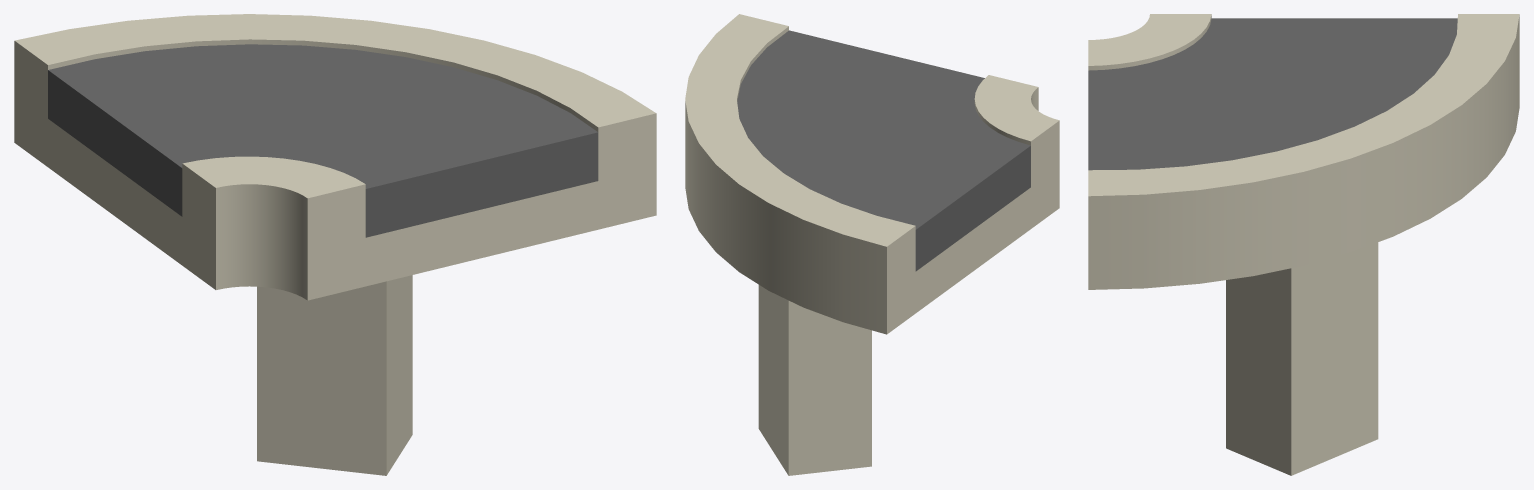
The model's file is tile225.fbx.
3 views of the same model, side by side, from view 1: azimuth 30°, elevation 25°; view 2: azimuth 150°, elevation 25°; view 3: azimuth 270°, elevation 25° (orthographic). The views are drawn at different scales.
Visible parts, largest first — view 1: tile225; view 2: tile225; view 3: tile225.
Boxes of the visible parts, x1,y1,x2,y2 form: tile225: (14, 14, 656, 475); tile225: (685, 14, 1059, 475); tile225: (1088, 14, 1519, 475).
Size of the model in its own units: 8.75 by 7.6 by 8.75.
